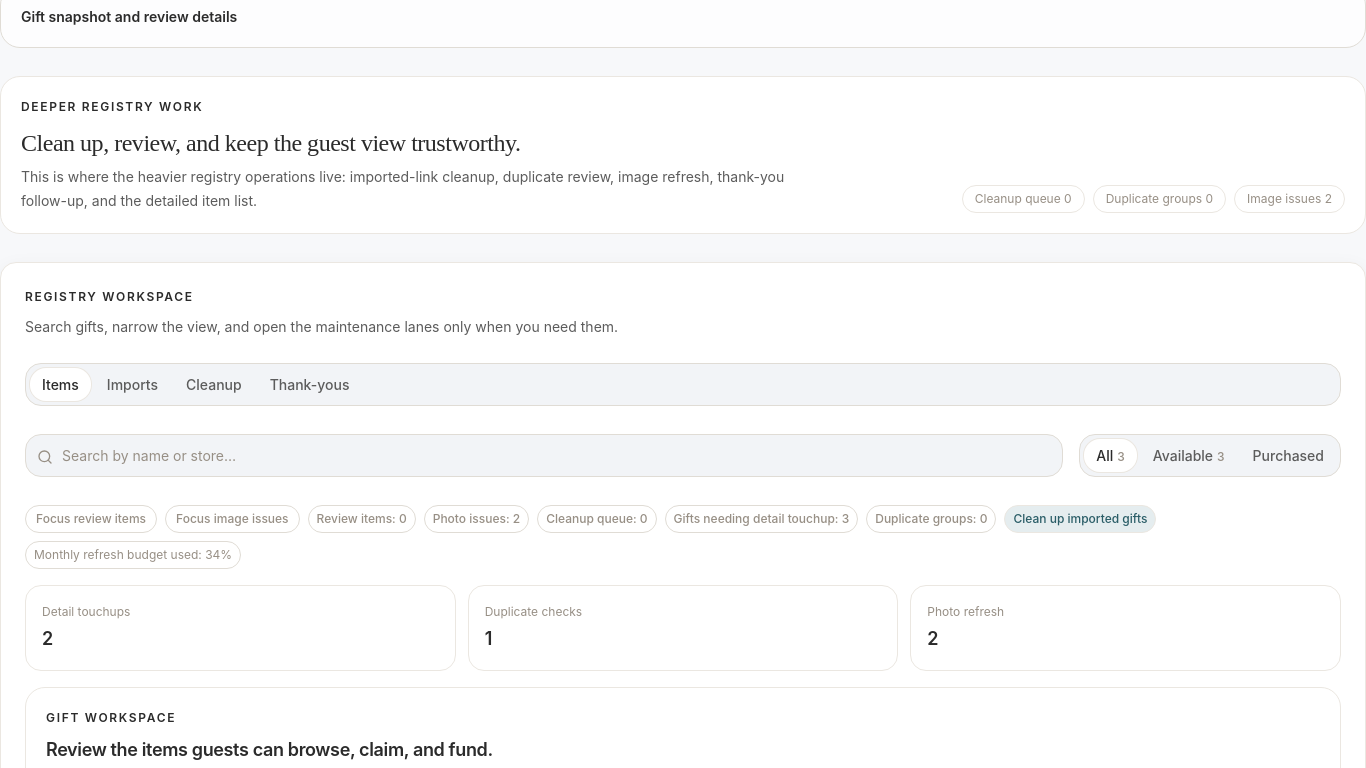
Test case: RegistryDashboardRouteContent › summarizes cleanup tools before the repair actions
This screenshot has width=1366, height=768.
(page scrolled)
Step 1. Click the button "Cleanup" → [214, 384], box [174,368,254,401]
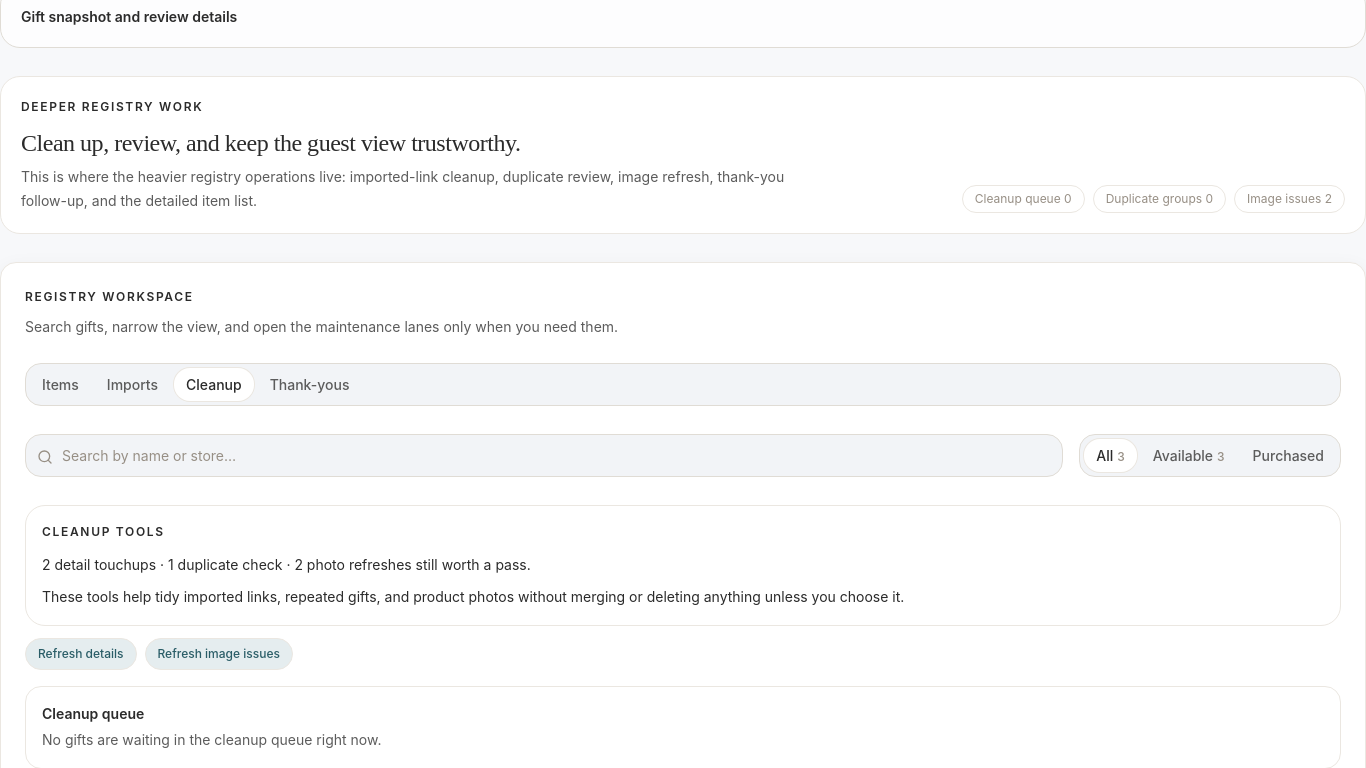
Expected: the text "2 detail touchups · 1 duplicate check · 2 photo refreshes still worth a pass." is shown, [42,556,531,573]
Expected: the text "These tools help tidy imported links, repeated gifts, and product photos without merging or deleting anything unless you" is shown, [42,588,904,605]
Expected: the button "Refresh image issues" is shown, [144,638,293,670]
